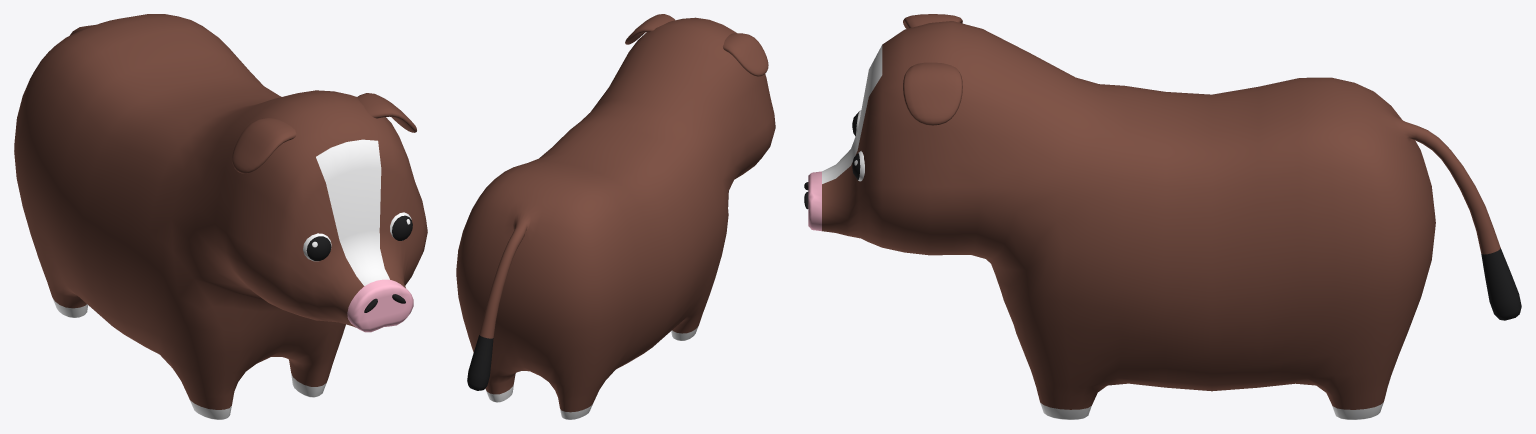
Rendered from Farm_6_Pig_2.glb.
3 views of the same model, side by side, from view 1: azimuth 30°, elevation 25°; view 2: azimuth 150°, elevation 25°; view 3: azimuth 270°, elevation 25° (orthographic). The views are drawn at different scales.
Visible parts, largest first — view 1: Farm_6_Pig_2; view 2: Farm_6_Pig_2; view 3: Farm_6_Pig_2.
Boxes of the visible parts, box(x1,y1,x2,y2) form: Farm_6_Pig_2: box(14, 14, 427, 419); Farm_6_Pig_2: box(456, 14, 775, 419); Farm_6_Pig_2: box(804, 14, 1521, 419).
Bounding box in the file's own units: 0.5188 × 0.7923 × 1.44.
1 material, 1 textured.
